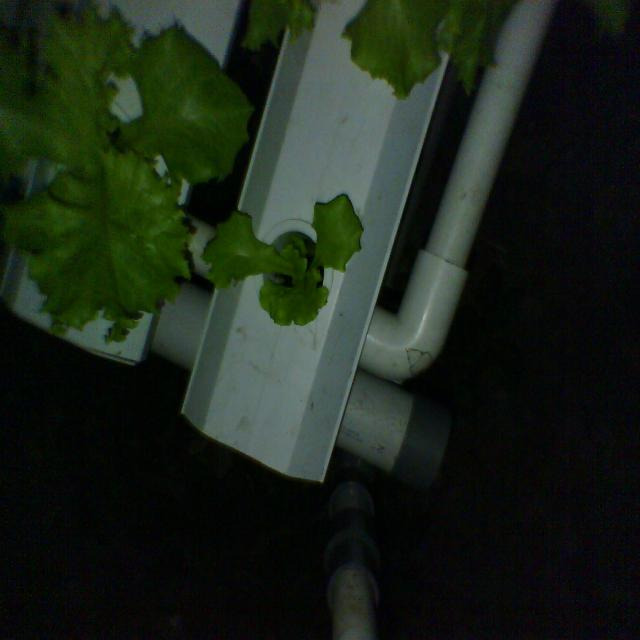FN: (0, 0, 255, 356), (197, 181, 370, 336)
